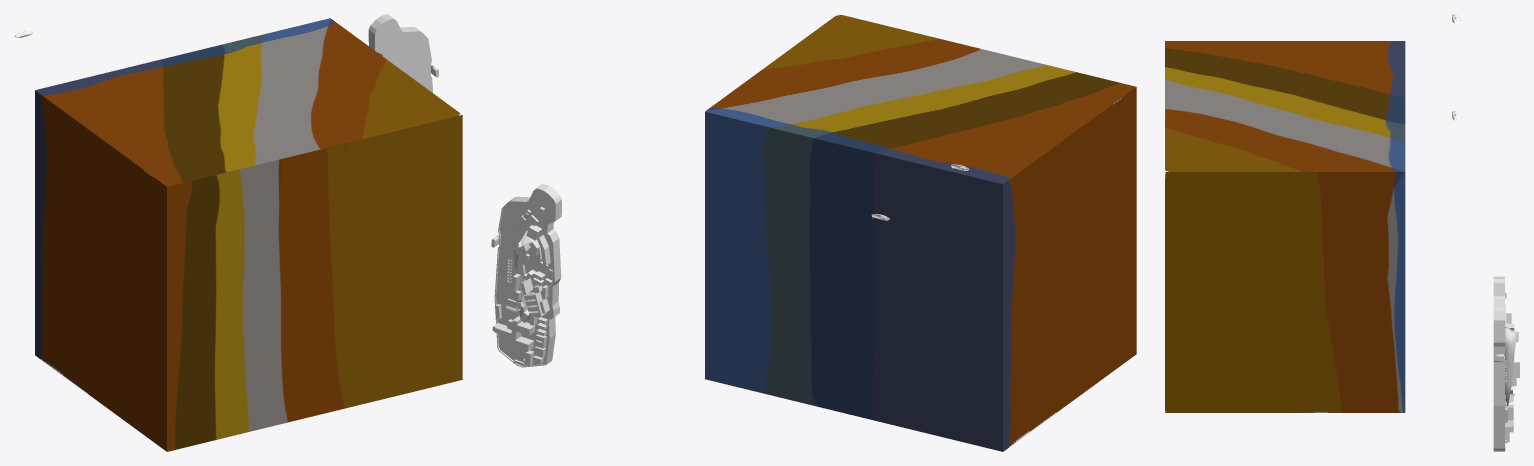
The picture shows the model from 3 angles, left to right: view 1: azimuth 30°, elevation 25°; view 2: azimuth 150°, elevation 25°; view 3: azimuth 270°, elevation 25°; orthographic projection. The views are drawn at different scales.
Parts seen in each view (by area): view 1: 立方体, G-No_Name_002; view 2: 立方体, G-No_Name_002, G-No_Name_052; view 3: 立方体, G-No_Name_002, G-No_Name_052.
Boxes of the visible parts, bbox=[...] form: 立方体: bbox=[35, 18, 462, 451]; G-No_Name_002: bbox=[368, 14, 432, 92]; 立方体: bbox=[705, 14, 1136, 451]; G-No_Name_002: bbox=[494, 184, 561, 367]; G-No_Name_052: bbox=[514, 231, 541, 322]; 立方体: bbox=[1165, 41, 1405, 412]; G-No_Name_002: bbox=[1493, 276, 1504, 451]; G-No_Name_052: bbox=[1505, 326, 1515, 405].
Bounding box in the file's own units: 14.2 × 8.97 × 10.6.
Materials: 4 (1 with a texture image).
